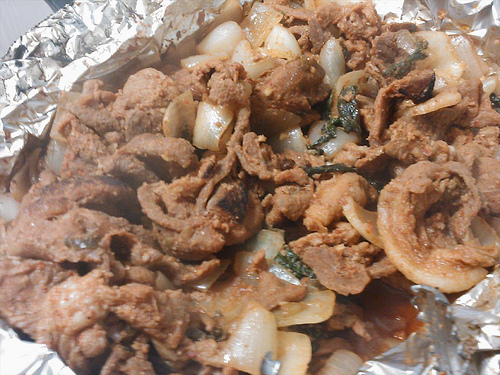bulgogi: (16, 17, 492, 358)
